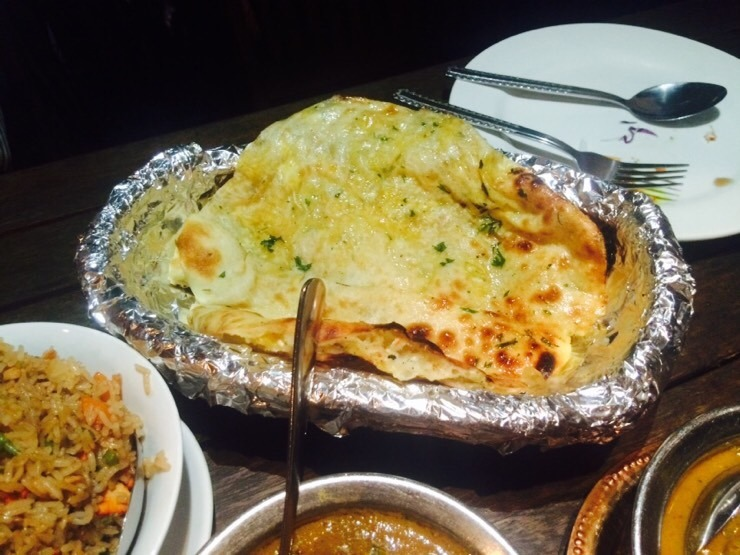plain rice: (1, 356, 141, 549)
